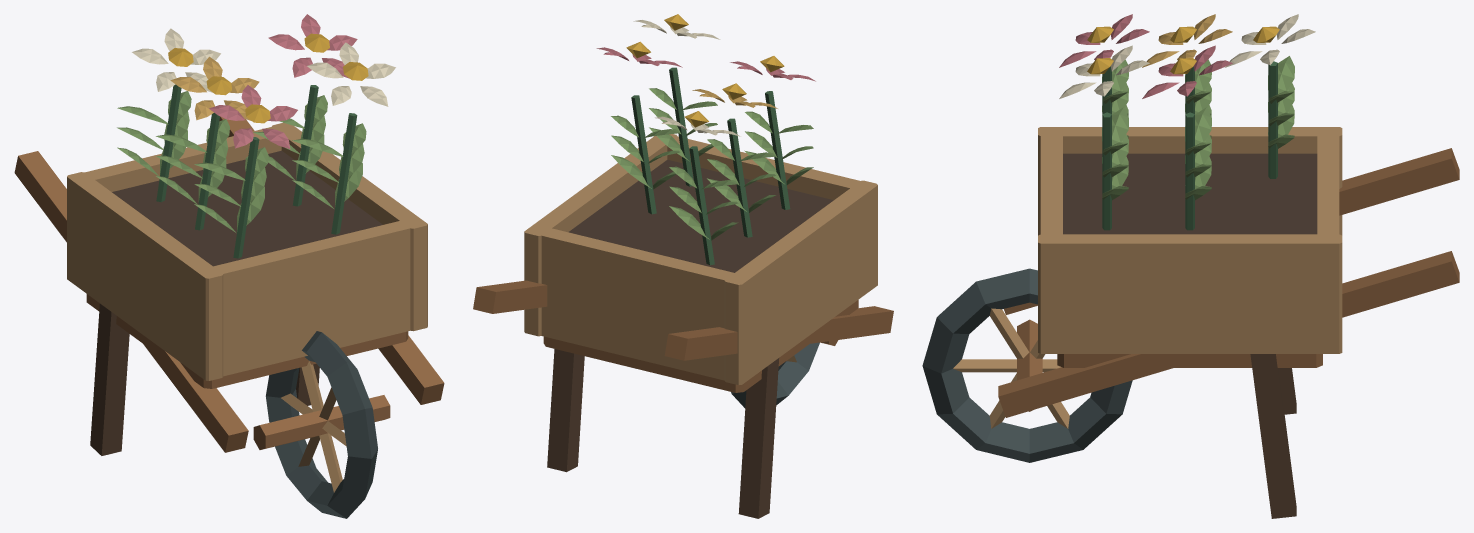
File: decor_wheelbarrow.glb
3 renders of one model, left to right at view 1: azimuth 30°, elevation 25°; view 2: azimuth 150°, elevation 25°; view 3: azimuth 270°, elevation 25°, orthographic. The views are drawn at different scales.
Parts seen in each view (by area): view 1: geometry; view 2: geometry; view 3: geometry.
Boxes of the visible parts, x1,y1,x2,y2 form: geometry: (14,14,444,518); geometry: (473,14,893,518); geometry: (922,14,1459,518).
Bounding box in the file's own units: 0.5 × 0.881 × 0.971.
